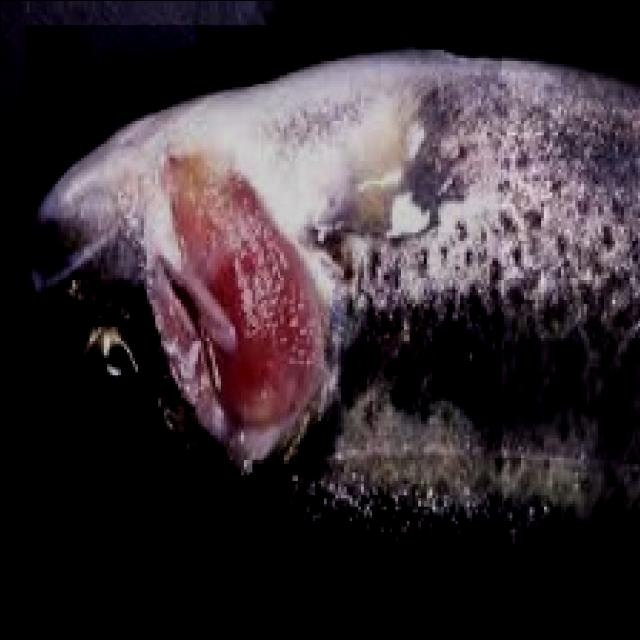Gill Disease: (24, 24, 501, 583)
